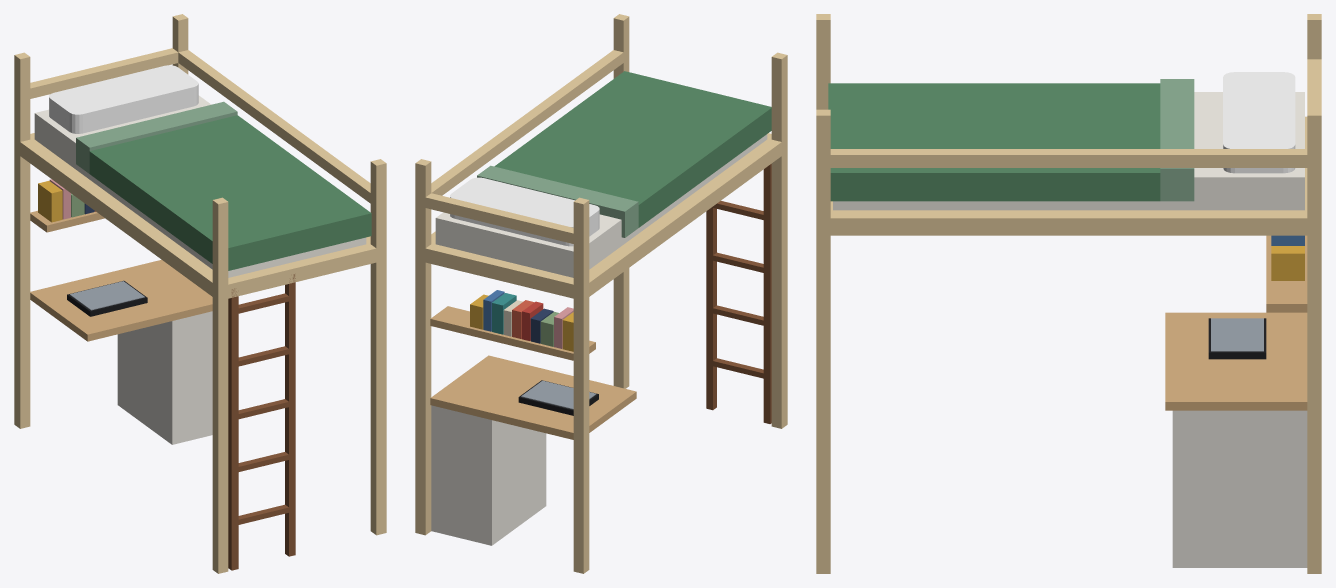
Rendered from desk_bed_combo.glb.
3 renders of one model, left to right at view 1: azimuth 30°, elevation 25°; view 2: azimuth 150°, elevation 25°; view 3: azimuth 270°, elevation 25°, orthographic. The views are drawn at different scales.
Parts seen in each view (by area): view 1: desk_bed_combo_Body, desk_bed_combo_Ladder; view 2: desk_bed_combo_Body, desk_bed_combo_Ladder; view 3: desk_bed_combo_Body.
Boxes of the visible parts, x1,y1,x2,y2 form: desk_bed_combo_Body: (14, 14, 386, 573); desk_bed_combo_Ladder: (228, 274, 295, 570); desk_bed_combo_Body: (415, 14, 787, 573); desk_bed_combo_Ladder: (706, 164, 771, 423); desk_bed_combo_Body: (816, 14, 1321, 573).
Size of the model in its own units: 1 by 2.1 by 2.1.
